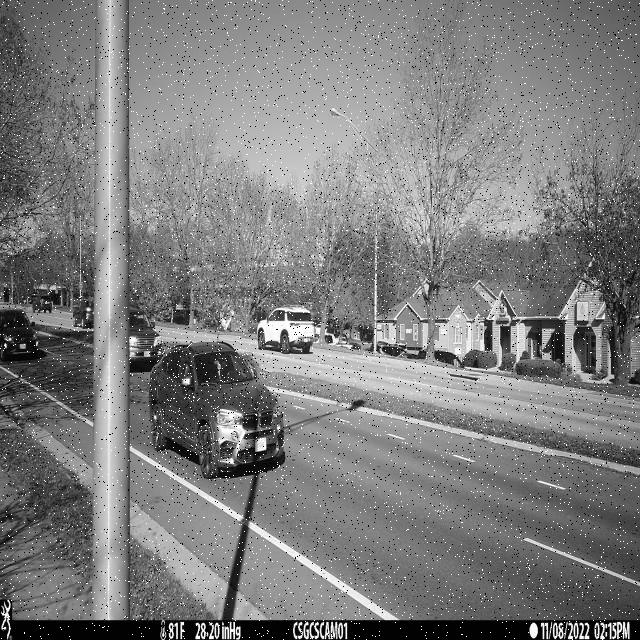SUV: (148, 341, 286, 480)
